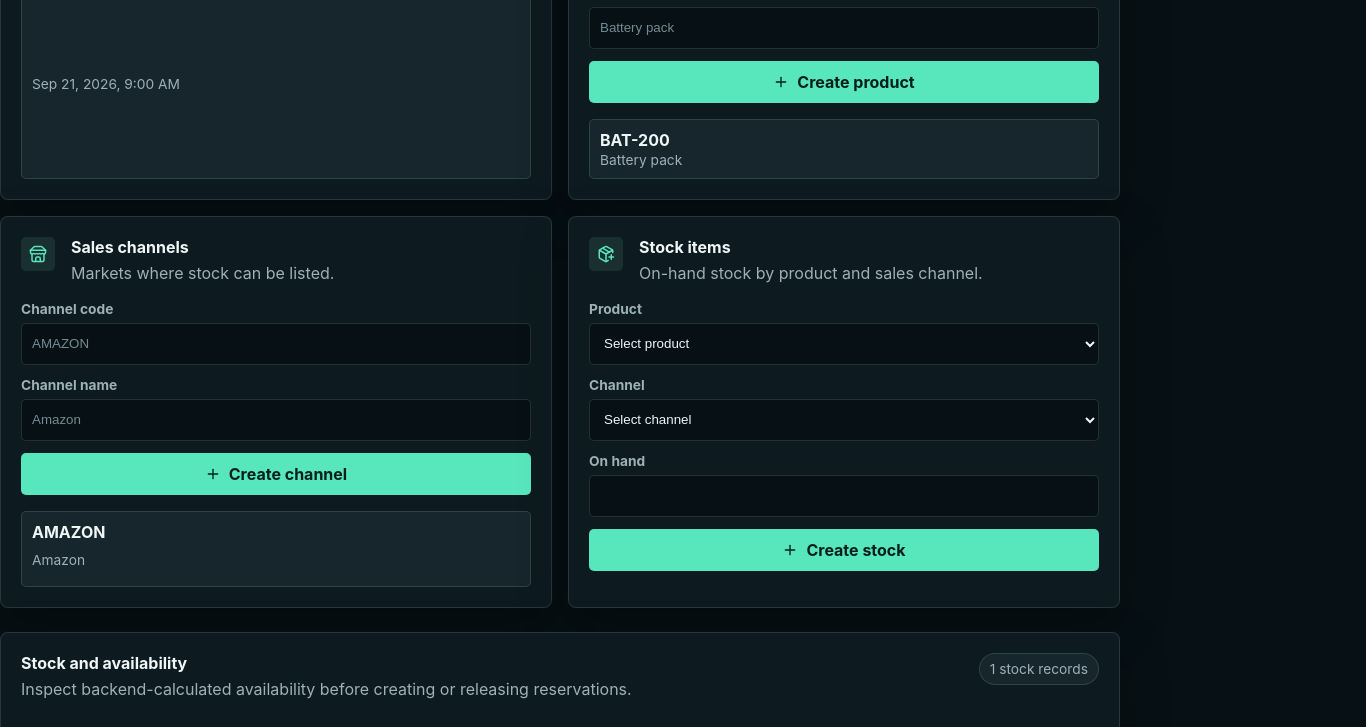
M6 workflow pages › creates stock items and inspects reservation-aware availability
This screenshot has width=1366, height=727.
(page scrolled)
Expected: the text "BAT-200" is shown, [600, 130, 670, 150]
Select "BAT-200 - Battery pack" in the dropdown labelled "Product" at x=844, y=344, box [589, 323, 1099, 365]
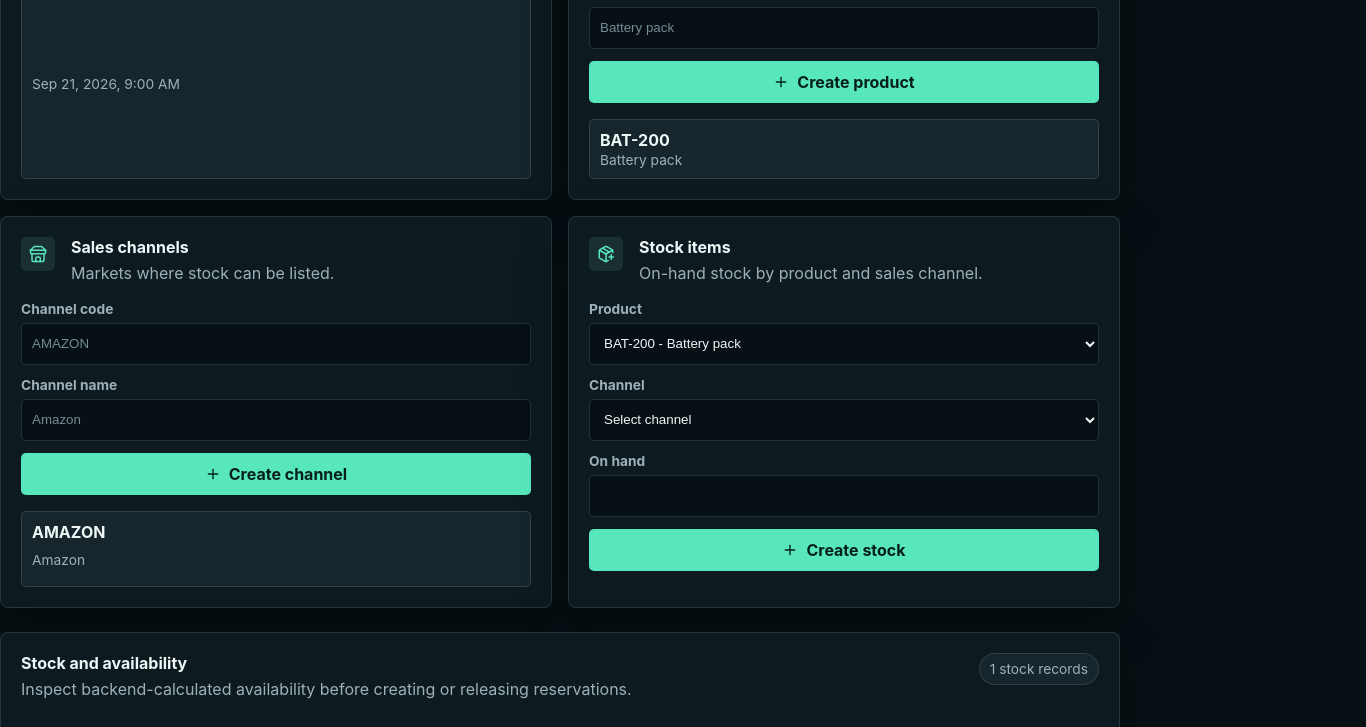
Select "AMAZON" in the dropdown labelled "Channel" at x=844, y=420, box [589, 399, 1099, 441]
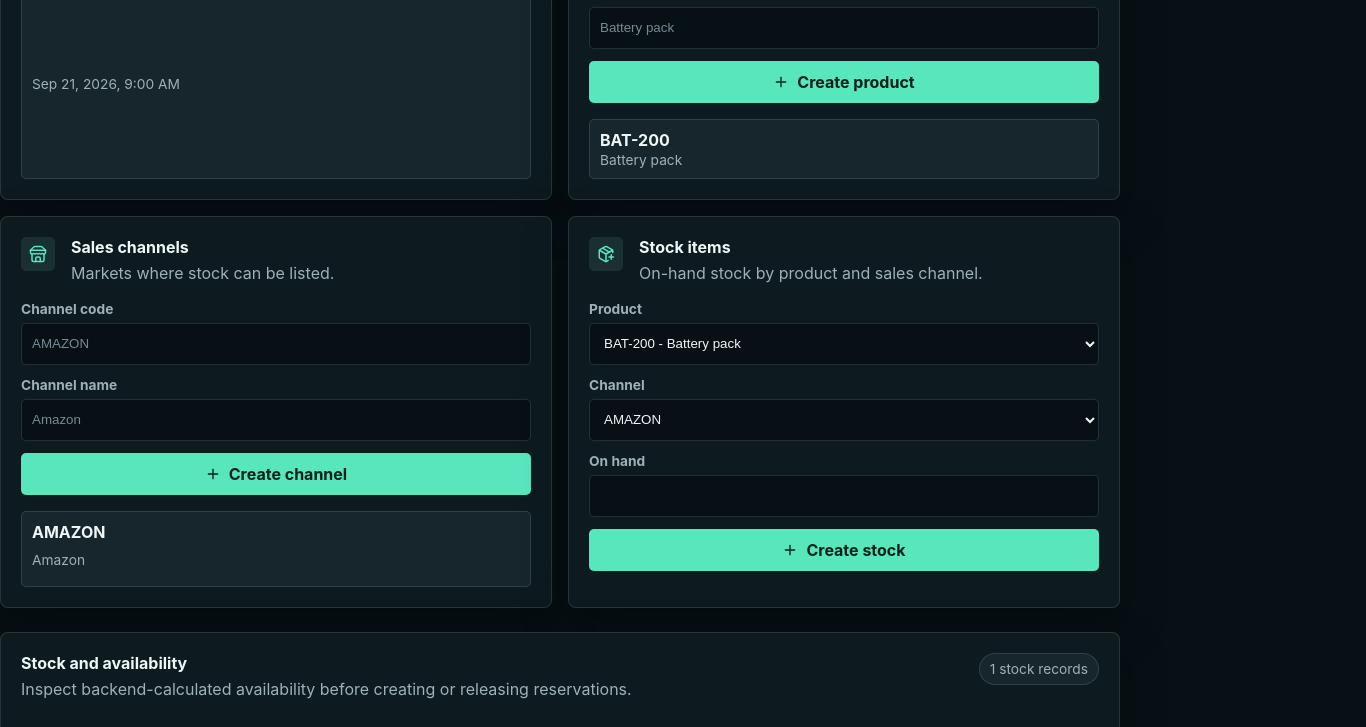
Type "12" into the number field labelled "On hand" at x=844, y=496, box [589, 475, 1099, 517]
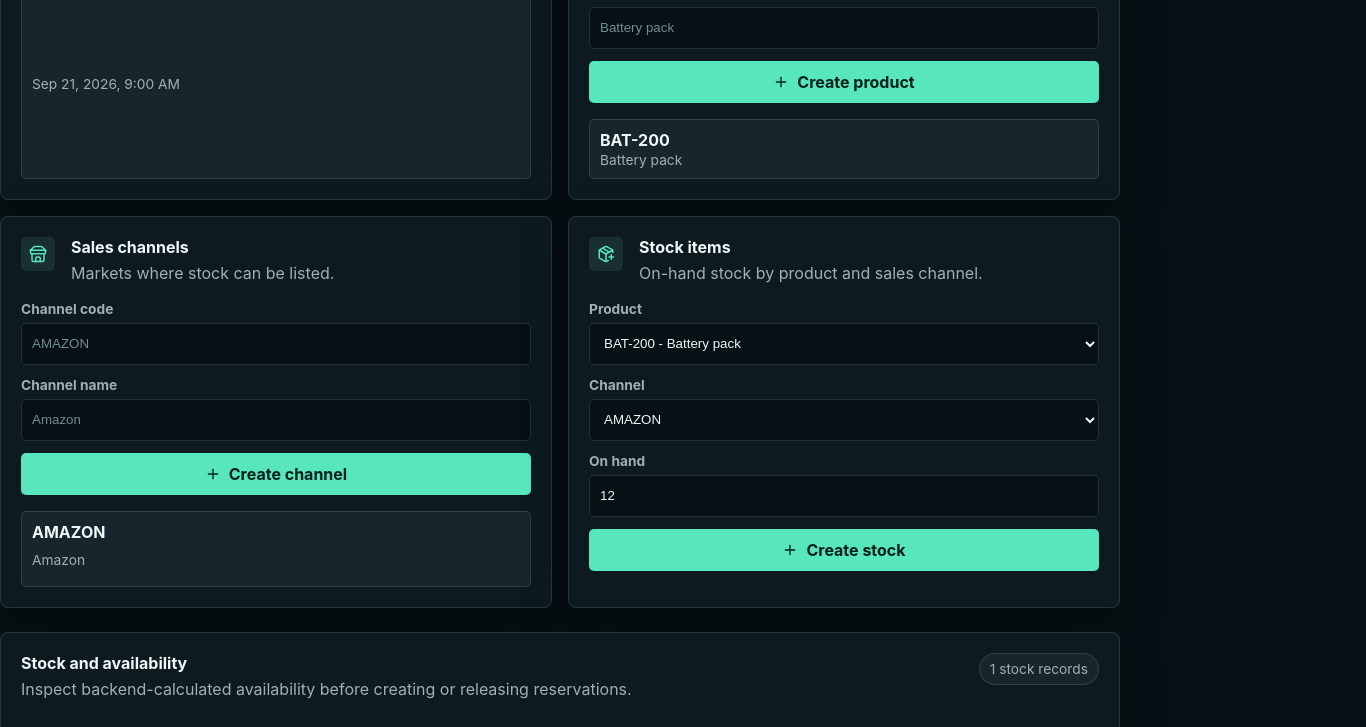
Click the button "Create stock" at x=844, y=550, box [589, 529, 1099, 571]
(page scrolled)
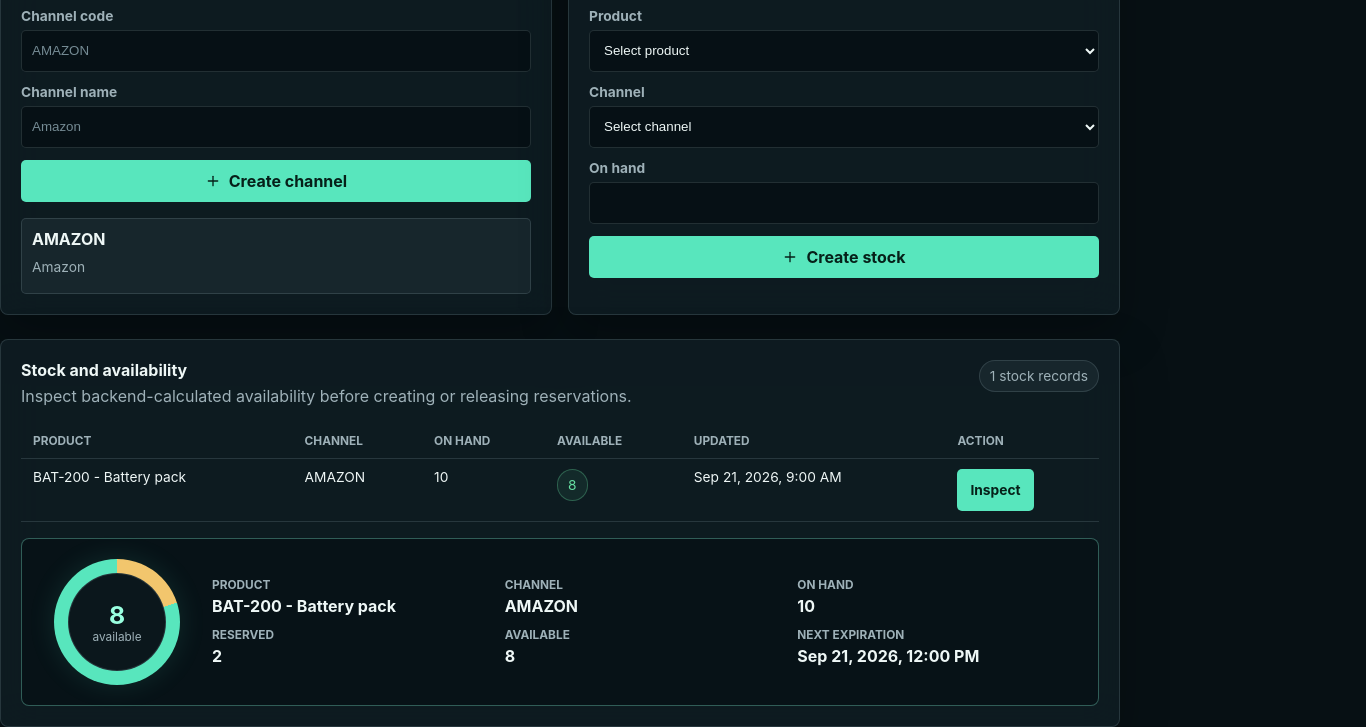
Result: the element named "Selected stock item detail" is shown at [21, 538, 1099, 706]
Result: the text "Reserved" is shown at [212, 628, 274, 642]
